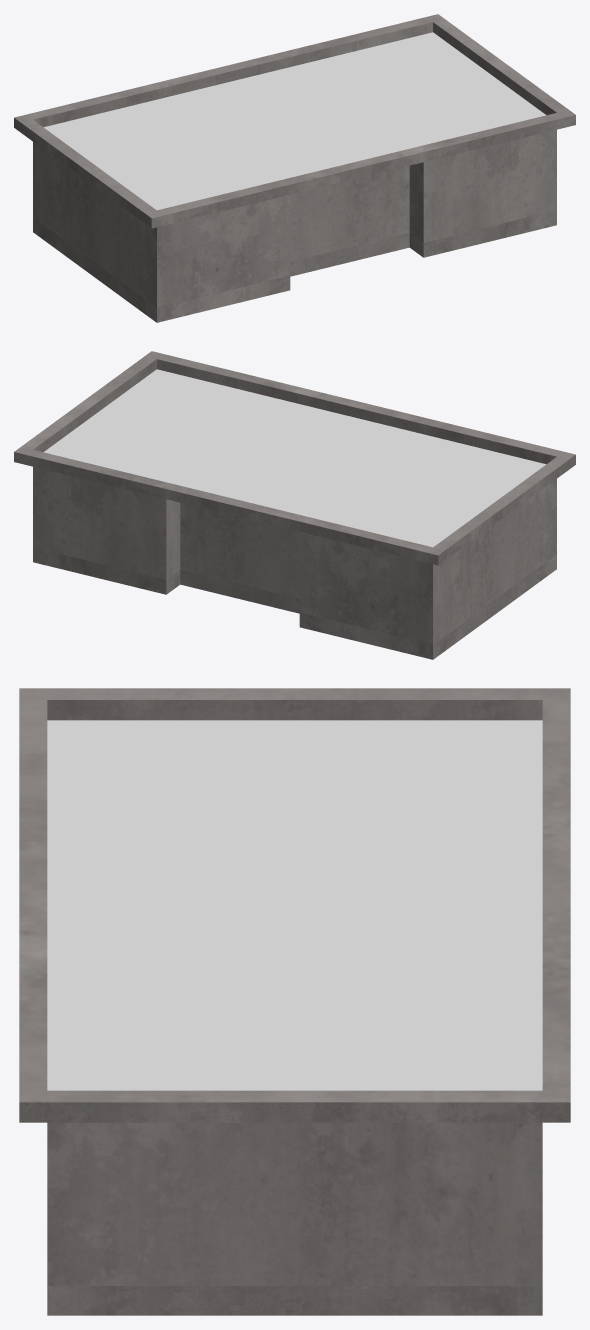
Rendered from Table.fbx.
3 renders of one model, top to bottom at view 1: azimuth 30°, elevation 25°; view 2: azimuth 150°, elevation 25°; view 3: azimuth 270°, elevation 25°, orthographic. The views are drawn at different scales.
Parts seen in each view (by area): view 1: Plane.008, Plane.007; view 2: Plane.008, Plane.007; view 3: Plane.007, Plane.008.
Part boxes in pixels (bbox=[...]): Plane.008: bbox=[14, 14, 575, 322]; Plane.007: bbox=[44, 32, 545, 210]; Plane.008: bbox=[14, 351, 575, 659]; Plane.007: bbox=[44, 369, 545, 547]; Plane.007: bbox=[47, 720, 542, 1090]; Plane.008: bbox=[19, 688, 570, 1315].
Size of the model in its own units: 352 by 89.2 by 198.
